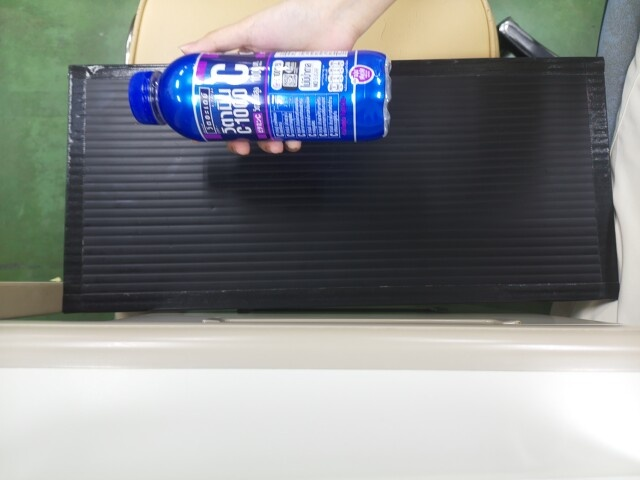plastic_bottle: (127, 48, 390, 141)
